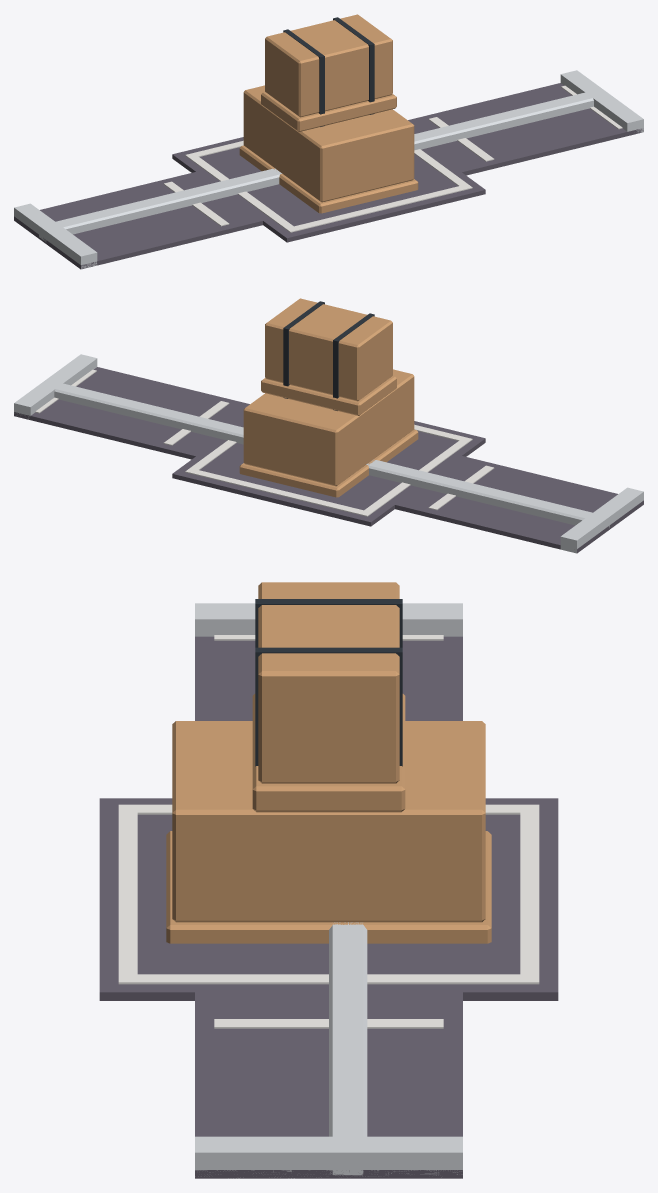
File: ENV_PARKING_A_v001.glb
3 views of the same model, one above another, from view 1: azimuth 30°, elevation 25°; view 2: azimuth 150°, elevation 25°; view 3: azimuth 270°, elevation 25° (orthographic). The views are drawn at different scales.
Visible parts, largest first — view 1: ENV_PARKING_A_PILE, ENV_PARKING_A_ROW, ENV_PARKING_A_PILE_PAD, ENV_PARKING_A_CURB_BACK, ENV_PARKING_A_CRATE; view 2: ENV_PARKING_A_PILE, ENV_PARKING_A_ROW, ENV_PARKING_A_PILE_PAD, ENV_PARKING_A_CURB_BACK, ENV_PARKING_A_CRATE; view 3: ENV_PARKING_A_PILE, ENV_PARKING_A_ROW, ENV_PARKING_A_PILE_PAD, ENV_PARKING_A_CRATE, ENV_PARKING_A_CURB_BACK.
Boxes of the visible parts, x1=… form: ENV_PARKING_A_PILE: x1=239, y1=14, x2=418, y2=213; ENV_PARKING_A_ROW: x1=14, y1=70, x2=643, y2=269; ENV_PARKING_A_PILE_PAD: x1=172, y1=137, x2=485, y2=242; ENV_PARKING_A_CURB_BACK: x1=39, y1=89, x2=607, y2=242; ENV_PARKING_A_CRATE: x1=261, y1=116, x2=298, y2=186; ENV_PARKING_A_PILE: x1=239, y1=298, x2=418, y2=497; ENV_PARKING_A_ROW: x1=14, y1=354, x2=643, y2=553; ENV_PARKING_A_PILE_PAD: x1=172, y1=421, x2=485, y2=526; ENV_PARKING_A_CURB_BACK: x1=41, y1=380, x2=609, y2=530; ENV_PARKING_A_CRATE: x1=359, y1=393, x2=396, y2=469; ENV_PARKING_A_PILE: x1=166, y1=582, x2=491, y2=943; ENV_PARKING_A_ROW: x1=195, y1=603, x2=462, y2=1178; ENV_PARKING_A_PILE_PAD: x1=99, y1=798, x2=558, y2=1000; ENV_PARKING_A_CRATE: x1=256, y1=812, x2=401, y2=943; ENV_PARKING_A_CURB_BACK: x1=329, y1=922, x2=367, y2=1175.
Size of the model in its own units: 6.8 by 1.61 by 2.4.
